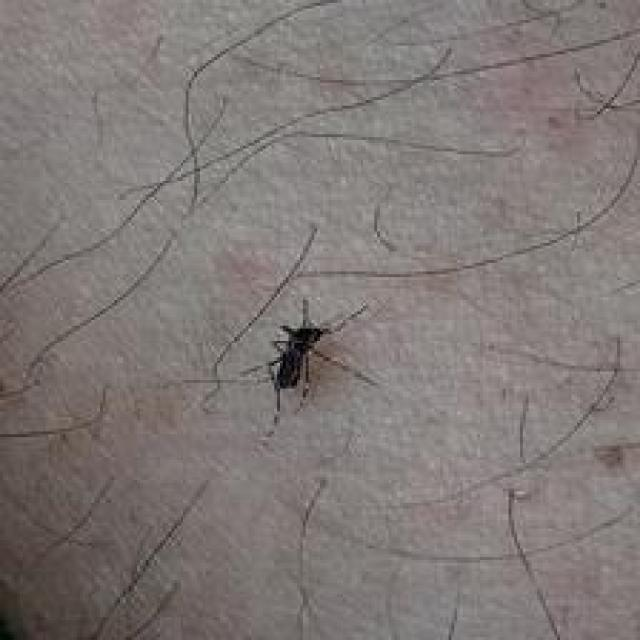Aedes albopictus: (261, 294, 373, 420)
